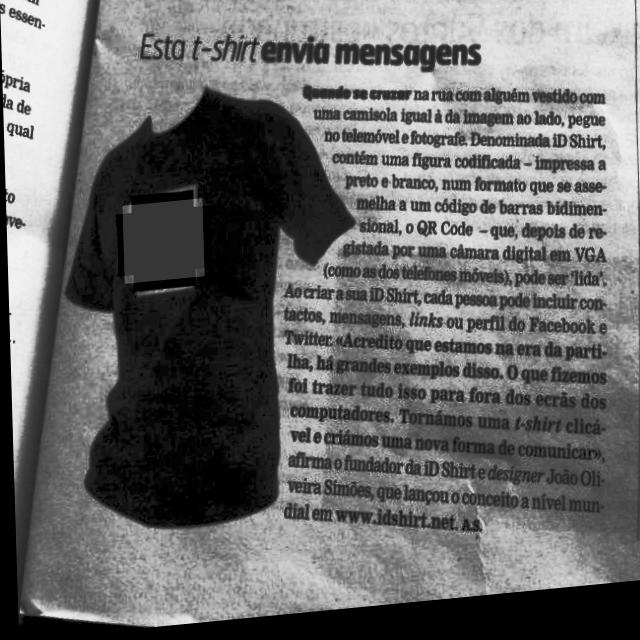qr_code: (121, 202, 203, 286)
